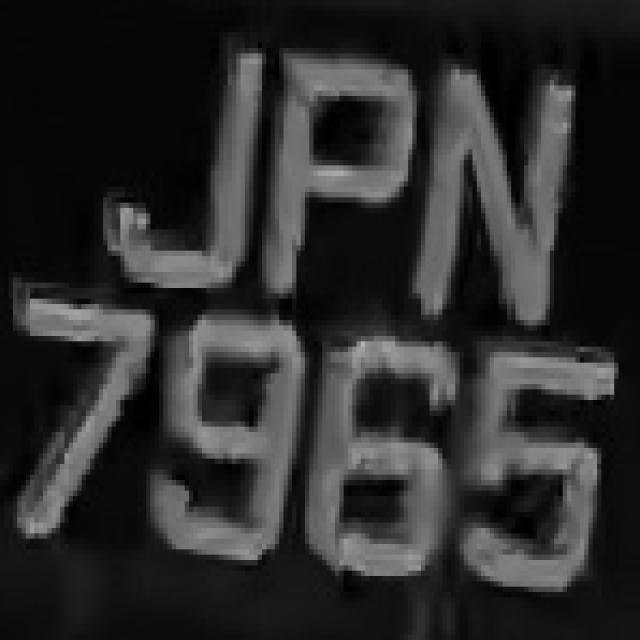5: (456, 331, 618, 597)
6: (309, 304, 468, 587)
7: (0, 266, 159, 570)
9: (159, 278, 305, 566)
J: (108, 32, 266, 299)
N: (417, 48, 580, 336)
P: (262, 38, 425, 310)
